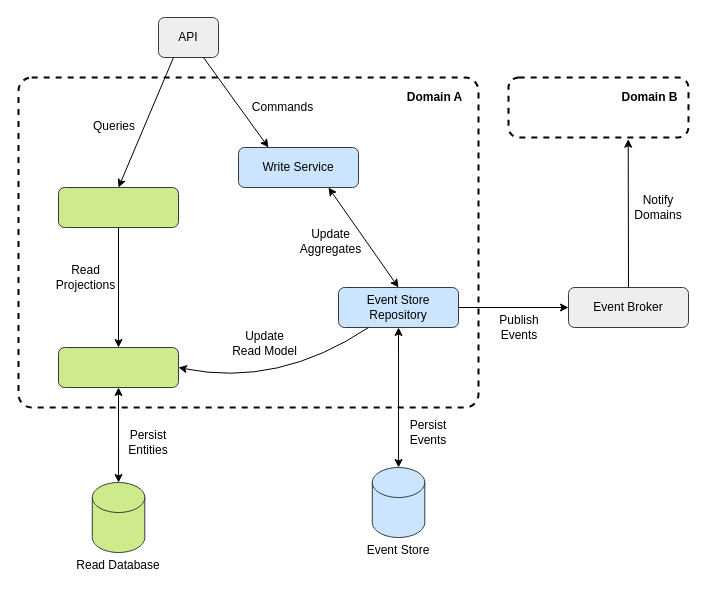
Some shapes in this 706 by 593 pixel diagram are drawn without their labels. The centre of each missing label's shape, as x and y in pixels:
"Read Model Repository" belongs at (118,367).
"Read Service" belongs at (118,207).
